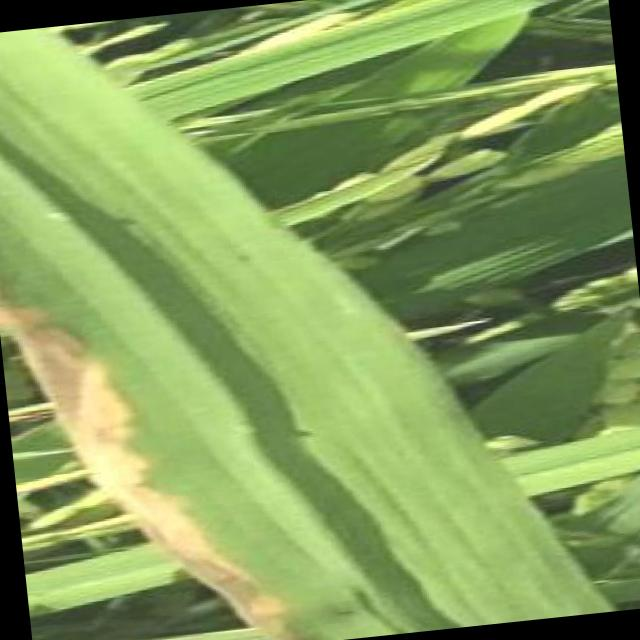Rice_Bacterial_Blight: (0, 23, 427, 640)
